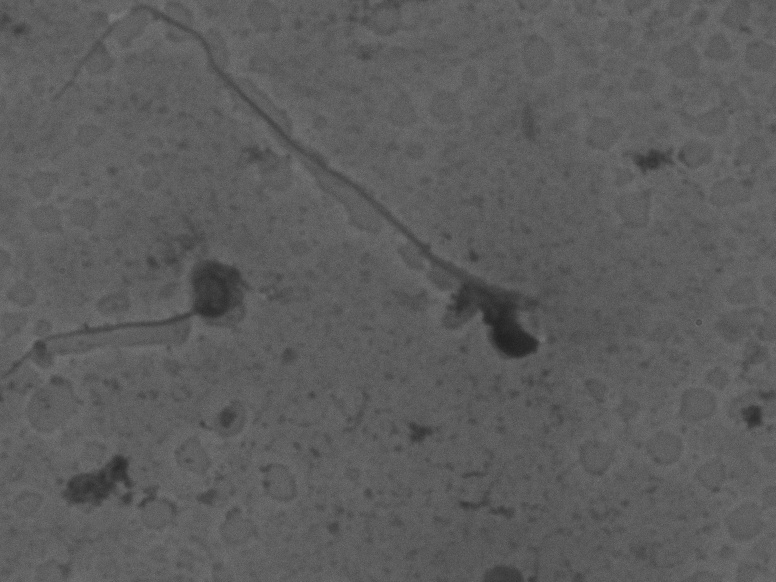Abnormal: (30, 6, 608, 405)
